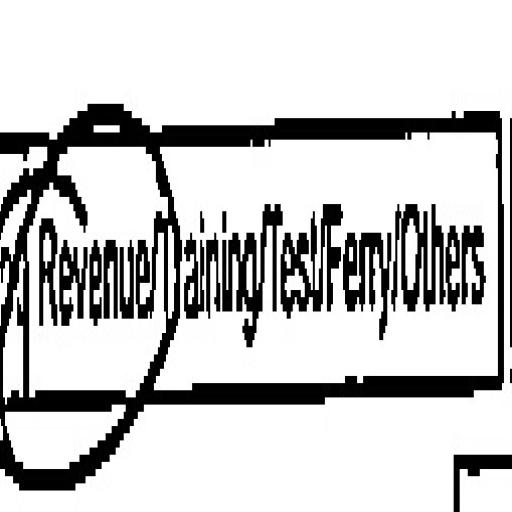check: (28, 60, 154, 505)
